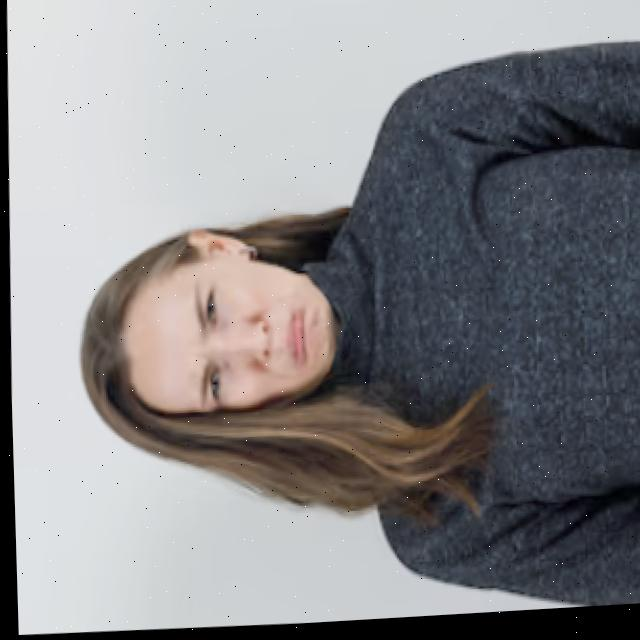sad: (152, 272, 325, 417)
